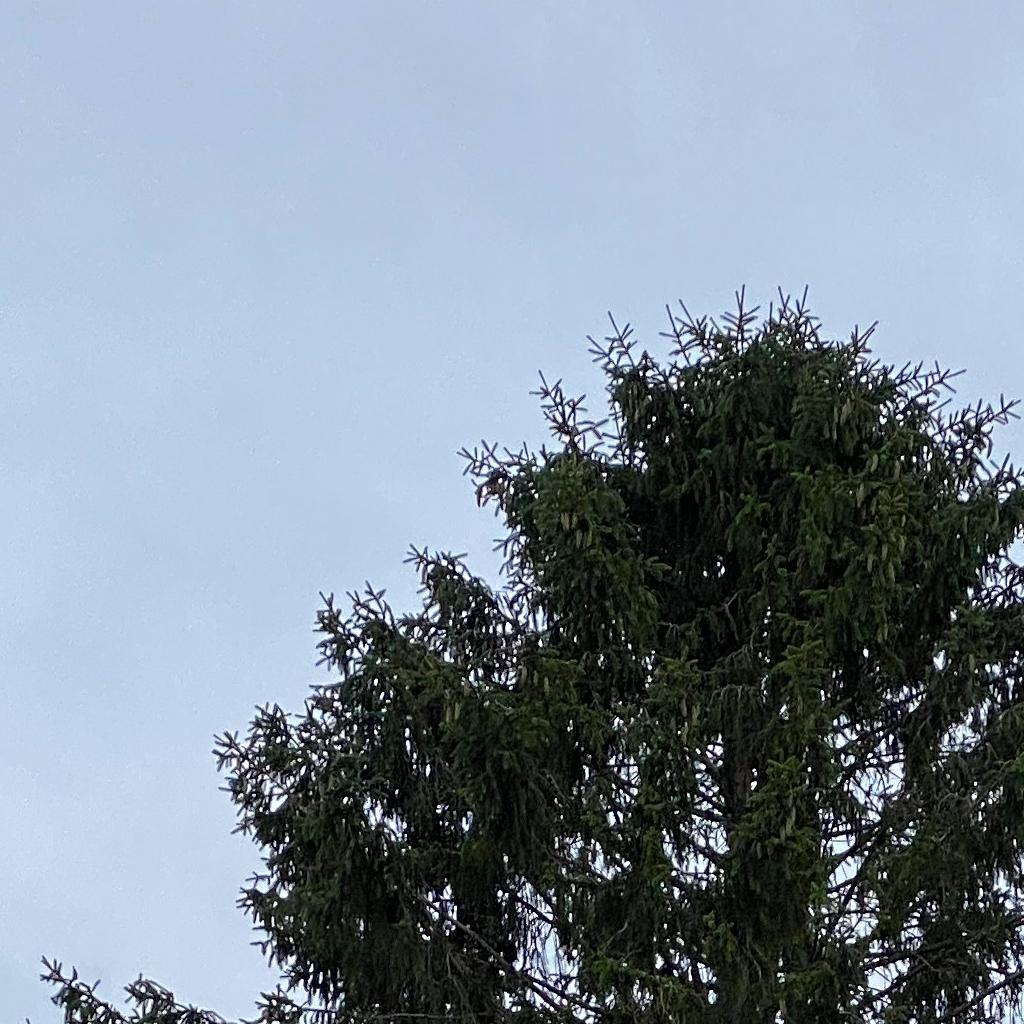tree: (25, 283, 1023, 1023)
